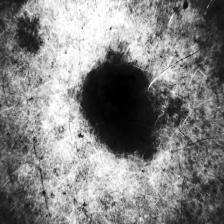Benign Marking or Mole: (85, 58, 165, 146)
